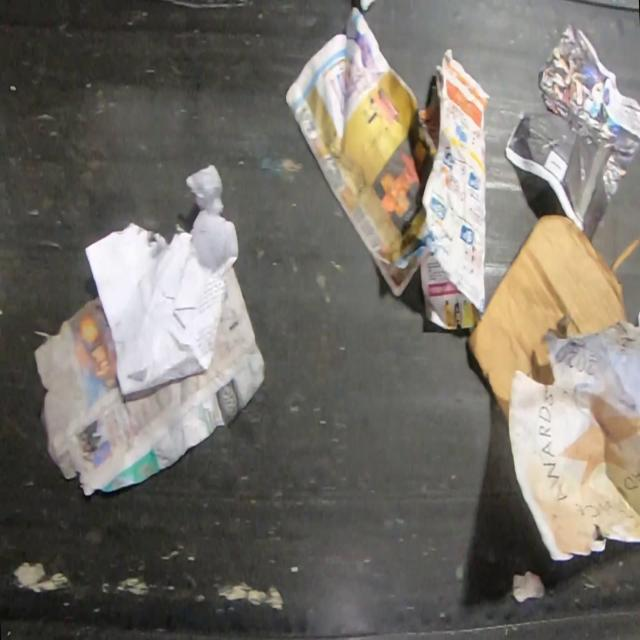cardboard: (469, 212, 639, 426)
